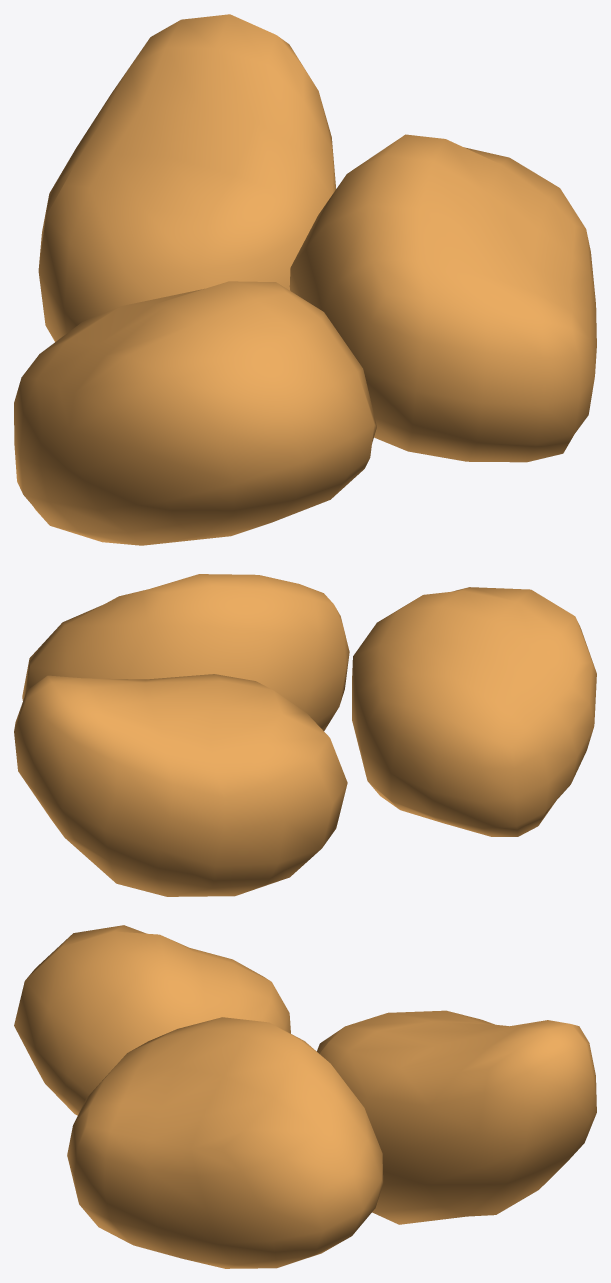
File: Food_Potatoes.fbx
3 renders of one model, top to bottom at view 1: azimuth 30°, elevation 25°; view 2: azimuth 150°, elevation 25°; view 3: azimuth 270°, elevation 25°, orthographic. The views are drawn at different scales.
Visible parts, largest first — view 1: Taters; view 2: Taters; view 3: Taters.
Boxes of the visible parts, x1,y1,x2,y2 form: Taters: [14, 14, 596, 545]; Taters: [14, 574, 596, 896]; Taters: [14, 925, 596, 1268].
Bounding box in the file's own units: 10.75 × 4.88 × 11.42.
